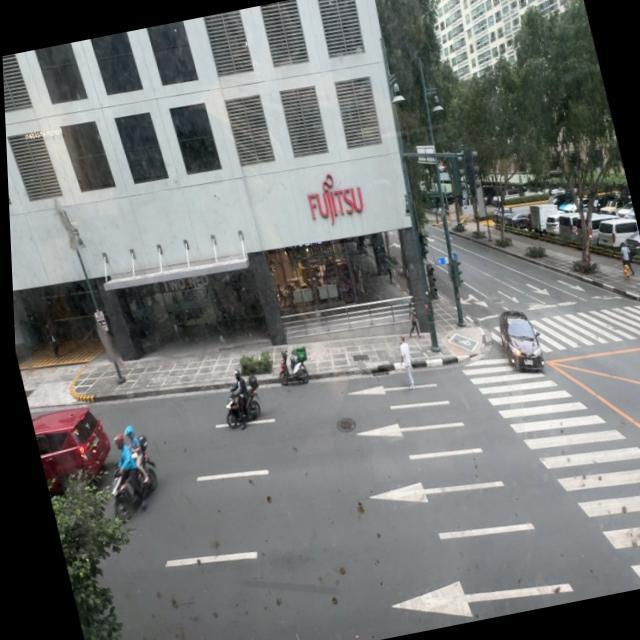jaywalking: (394, 336, 418, 388)
